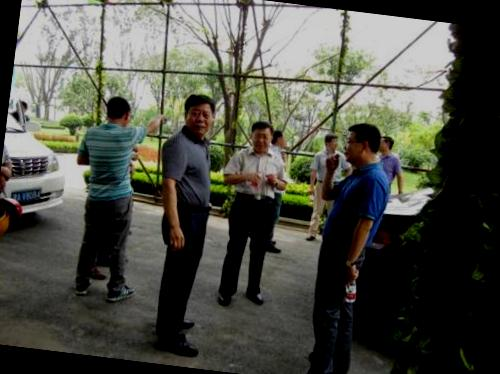no_helmet: (339, 117, 387, 173), (178, 86, 222, 142), (99, 91, 137, 134), (244, 116, 274, 152), (374, 132, 400, 160), (268, 126, 292, 152), (320, 130, 342, 156)
